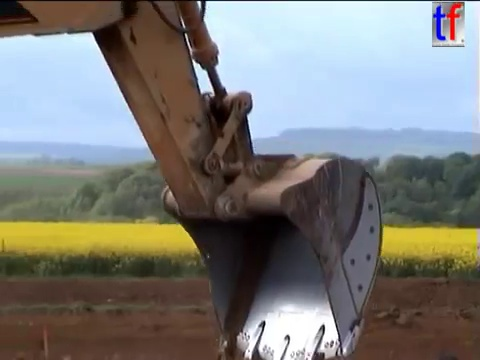excavator: (1, 1, 387, 360)
